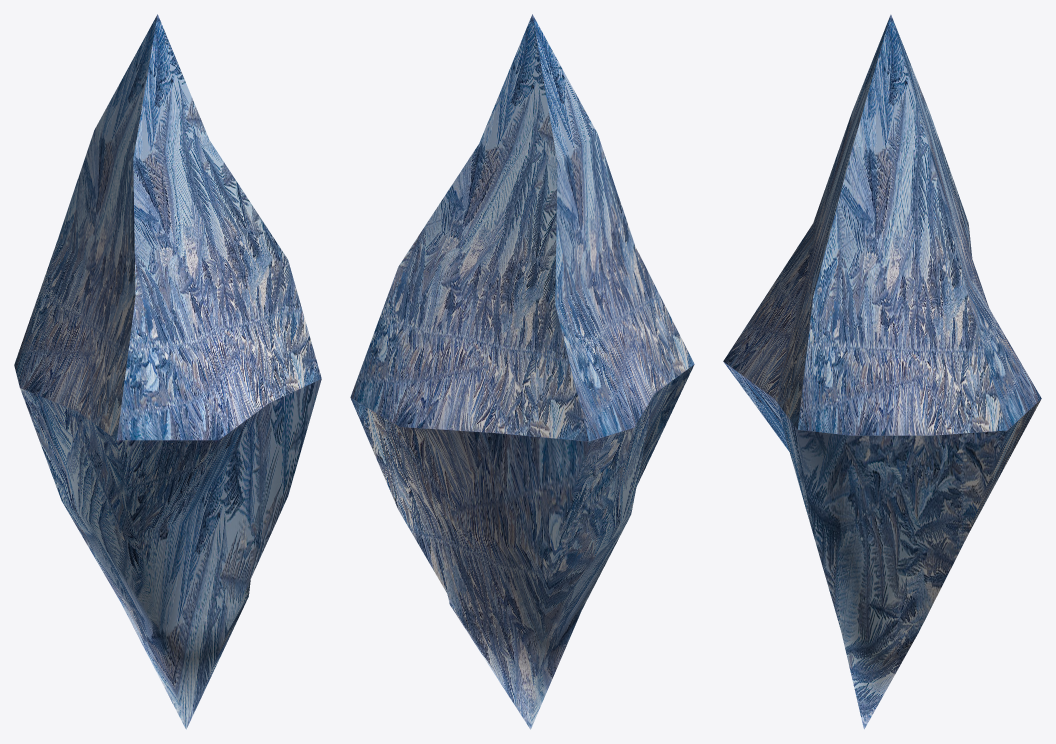
File: crystal shard.FBX
The picture shows the model from 3 angles, left to right: view 1: azimuth 30°, elevation 25°; view 2: azimuth 150°, elevation 25°; view 3: azimuth 270°, elevation 25°; orthographic projection. The views are drawn at different scales.
Parts seen in each view (by area): view 1: Pyramid001; view 2: Pyramid001; view 3: Pyramid001.
Part boxes in pixels (<box>): Pyramid001: <box>14,14,321,729</box>; Pyramid001: <box>350,14,694,729</box>; Pyramid001: <box>723,14,1041,729</box>.
Bounding box in the file's own units: 627 × 1716 × 699.
